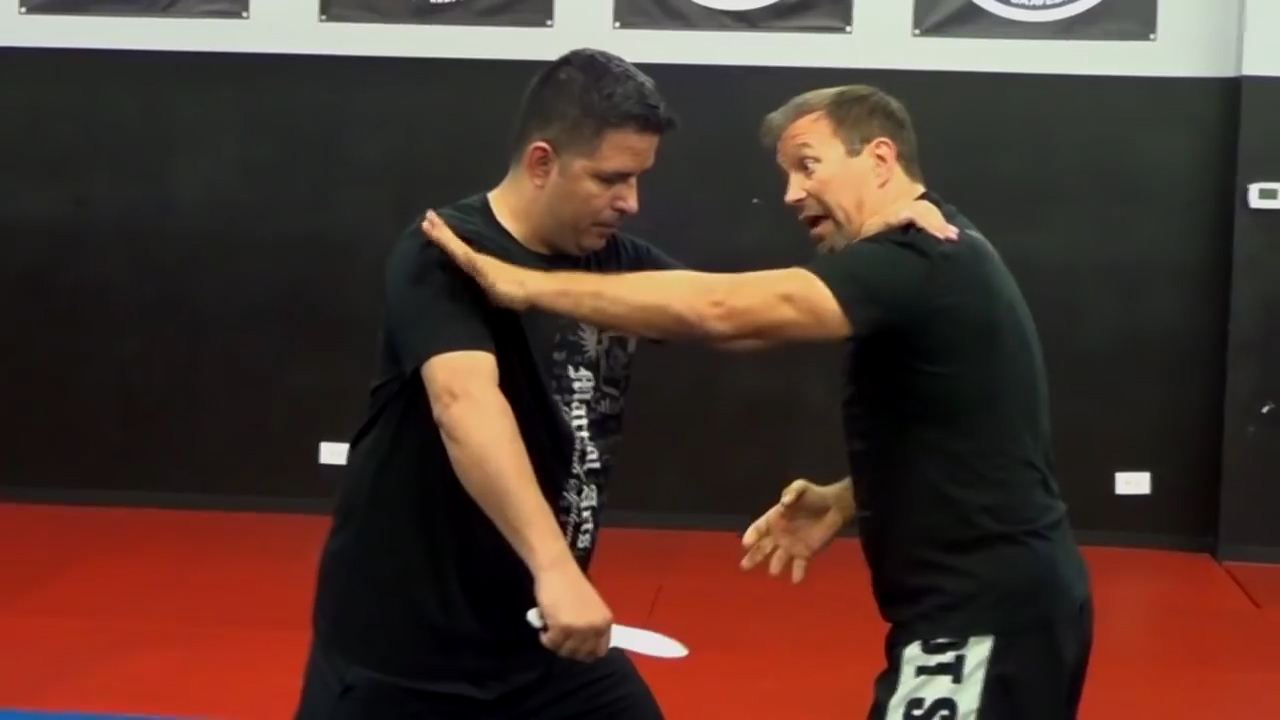knife: (519, 601, 699, 667)
